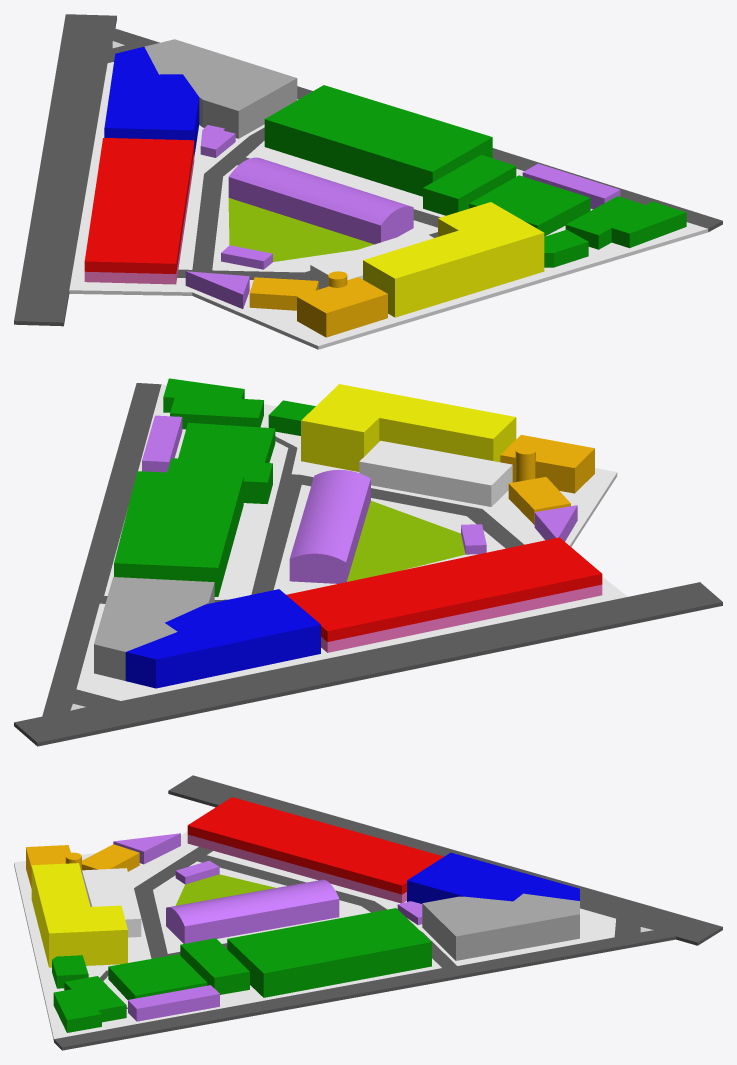
The model's file is junobebefuckyousitedev.glb.
3 renders of one model, top to bottom at view 1: azimuth 30°, elevation 25°; view 2: azimuth 150°, elevation 25°; view 3: azimuth 270°, elevation 25°, orthographic. The views are drawn at different scales.
Parts seen in each view (by area): view 1: 3DGeom-3, 3DGeom-12, 3DGeom-5, 3DGeom-2, 3DGeom-1, 3DGeom-13, 3DGeom-7, 3DGeom-8, 3DGeom-4, 3DGeom-11, 3DGeom-6, 3DGeom-9; view 2: 3DGeom-12, 3DGeom-5, 3DGeom-3, 3DGeom-1, 3DGeom-8, 3DGeom-13, 3DGeom-2, 3DGeom-7, 3DGeom-11, 3DGeom-4, 3DGeom-9; view 3: 3DGeom-3, 3DGeom-12, 3DGeom-5, 3DGeom-2, 3DGeom-1, 3DGeom-7, 3DGeom-13, 3DGeom-8, 3DGeom-4, 3DGeom-9, 3DGeom-11.
Boxes of the visible parts, bbox=[...] form: 3DGeom-3: bbox=[264, 85, 686, 267]; 3DGeom-12: bbox=[14, 14, 722, 326]; 3DGeom-5: bbox=[69, 62, 707, 345]; 3DGeom-2: bbox=[185, 125, 620, 308]; 3DGeom-1: bbox=[84, 138, 194, 274]; 3DGeom-13: bbox=[363, 202, 544, 317]; 3DGeom-7: bbox=[144, 39, 297, 138]; 3DGeom-8: bbox=[104, 47, 199, 156]; 3DGeom-4: bbox=[249, 271, 387, 337]; 3DGeom-11: bbox=[228, 198, 374, 261]; 3DGeom-6: bbox=[69, 41, 708, 349]; 3DGeom-9: bbox=[84, 153, 194, 284]; 3DGeom-12: bbox=[14, 383, 722, 746]; 3DGeom-5: bbox=[76, 384, 627, 700]; 3DGeom-3: bbox=[114, 378, 315, 596]; 3DGeom-1: bbox=[286, 537, 602, 641]; 3DGeom-8: bbox=[125, 589, 320, 688]; 3DGeom-13: bbox=[301, 384, 516, 471]; 3DGeom-2: bbox=[142, 415, 577, 583]; 3DGeom-7: bbox=[94, 577, 214, 680]; 3DGeom-11: bbox=[347, 500, 465, 581]; 3DGeom-4: bbox=[500, 435, 594, 524]; 3DGeom-9: bbox=[321, 584, 602, 652]; 3DGeom-3: bbox=[52, 908, 431, 1032]; 3DGeom-12: bbox=[54, 775, 722, 1050]; 3DGeom-5: bbox=[14, 831, 615, 1038]; 3DGeom-2: bbox=[113, 833, 422, 1021]; 3DGeom-1: bbox=[187, 797, 443, 894]; 3DGeom-7: bbox=[422, 893, 579, 960]; 3DGeom-13: bbox=[31, 863, 127, 967]; 3DGeom-8: bbox=[407, 852, 579, 903]; 3DGeom-4: bbox=[26, 844, 139, 888]; 3DGeom-9: bbox=[187, 834, 406, 903]; 3DGeom-11: bbox=[175, 874, 275, 905].
Bounding box in the file's own units: 5.47 × 0.35 × 6.02.
